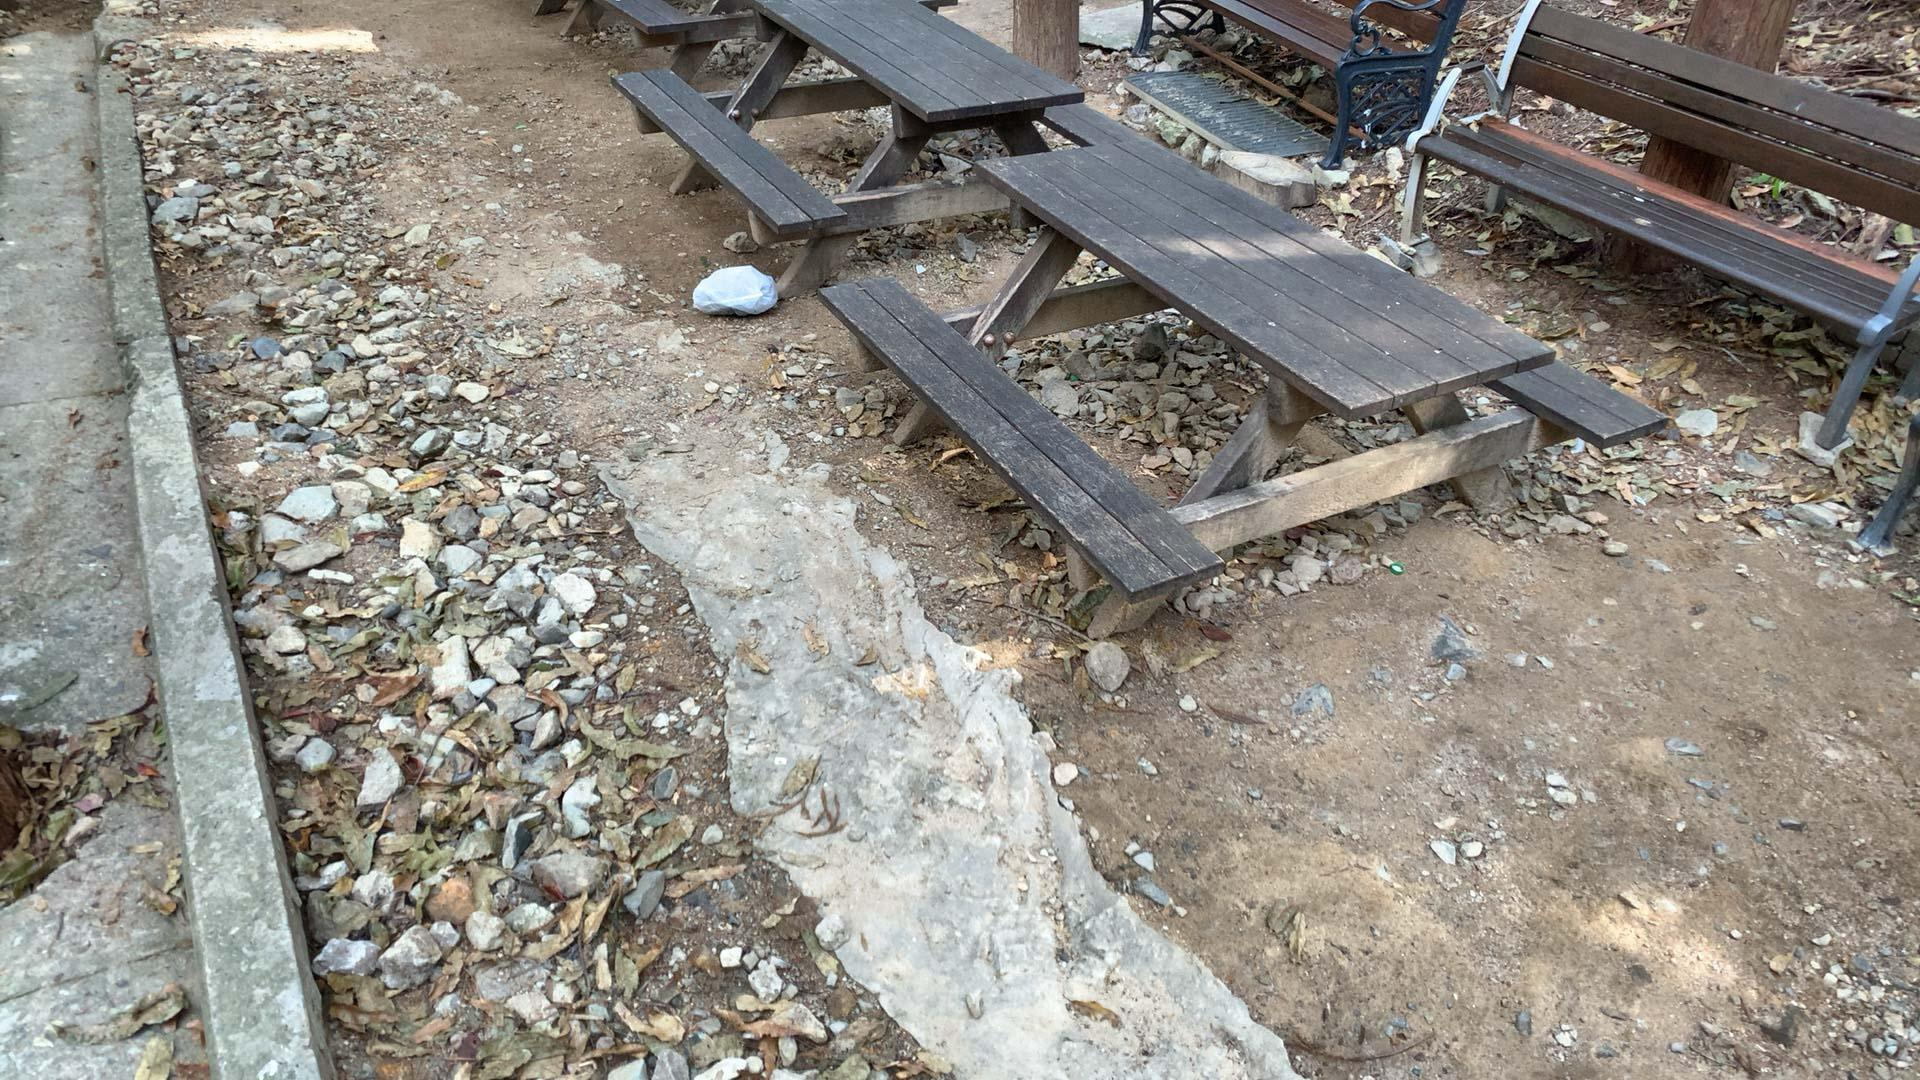white_bag: (683, 260, 777, 324)
